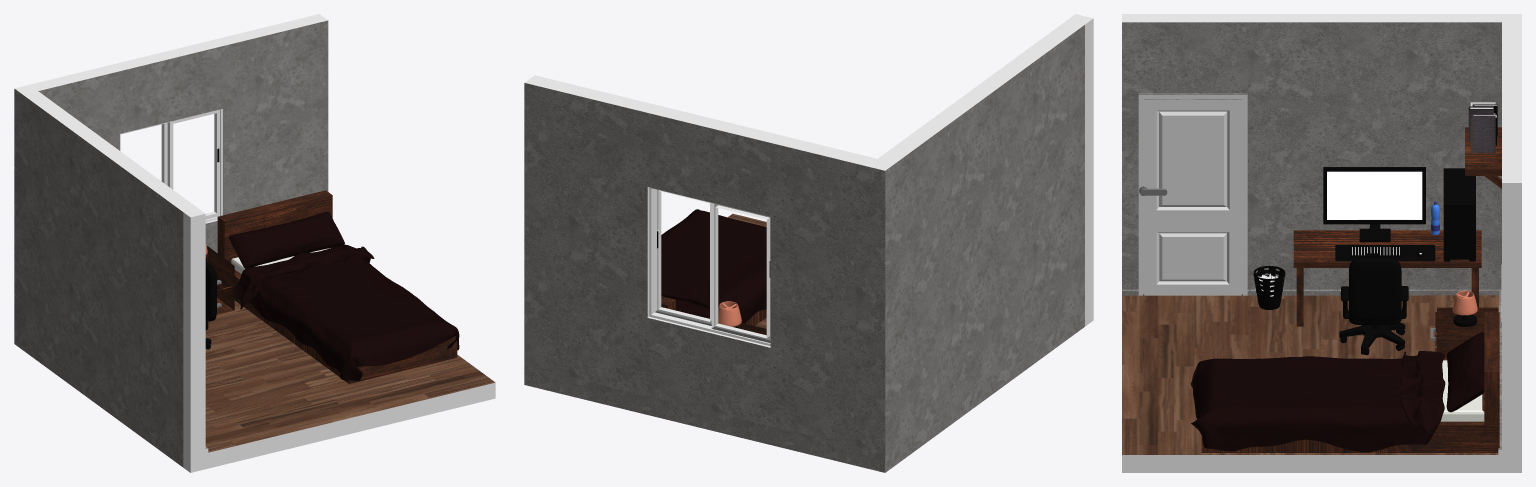
Rendered from room.glb.
The picture shows the model from 3 angles, left to right: view 1: azimuth 30°, elevation 25°; view 2: azimuth 150°, elevation 25°; view 3: azimuth 270°, elevation 25°; orthographic projection. The views are drawn at different scales.
Parts seen in each view (by area): view 1: Habitacion_0, sabana_6, Cama_4, Cojin_5, Mesa noche_25, Silla_22; view 2: Habitacion_0, sabana_6; view 3: Habitacion_0, sabana_6, Pantalla_20, Cama_4, Silla_22, Mesa_18, Ordenador_19, Cojin_5, Mesa noche_25, Libros_28, Estanteria_27, Papelera_3 (+3 smaller).
Boxes of the visible parts, <box> form: Habitacion_0: <box>14,14,495,472</box>; sabana_6: <box>231,244,459,380</box>; Cama_4: <box>217,190,457,383</box>; Cojin_5: <box>229,211,344,268</box>; Mesa noche_25: <box>205,246,234,314</box>; Silla_22: <box>205,261,216,349</box>; Habitacion_0: <box>524,14,1093,472</box>; sabana_6: <box>661,209,766,323</box>; Habitacion_0: <box>1122,14,1521,472</box>; sabana_6: <box>1191,351,1445,452</box>; Pantalla_20: <box>1323,167,1425,242</box>; Cama_4: <box>1201,312,1499,452</box>; Silla_22: <box>1339,257,1408,355</box>; Mesa_18: <box>1293,230,1481,326</box>; Ordenador_19: <box>1443,168,1475,261</box>; Cojin_5: <box>1446,332,1484,412</box>; Mesa noche_25: <box>1430,307,1498,360</box>; Libros_28: <box>1468,102,1497,152</box>; Estanteria_27: <box>1465,127,1501,188</box>; Papelera_3: <box>1253,266,1285,309</box>.
Size of the model in its own units: 9.95 by 7.71 by 9.64.
Materials: 21 (6 with a texture image).
